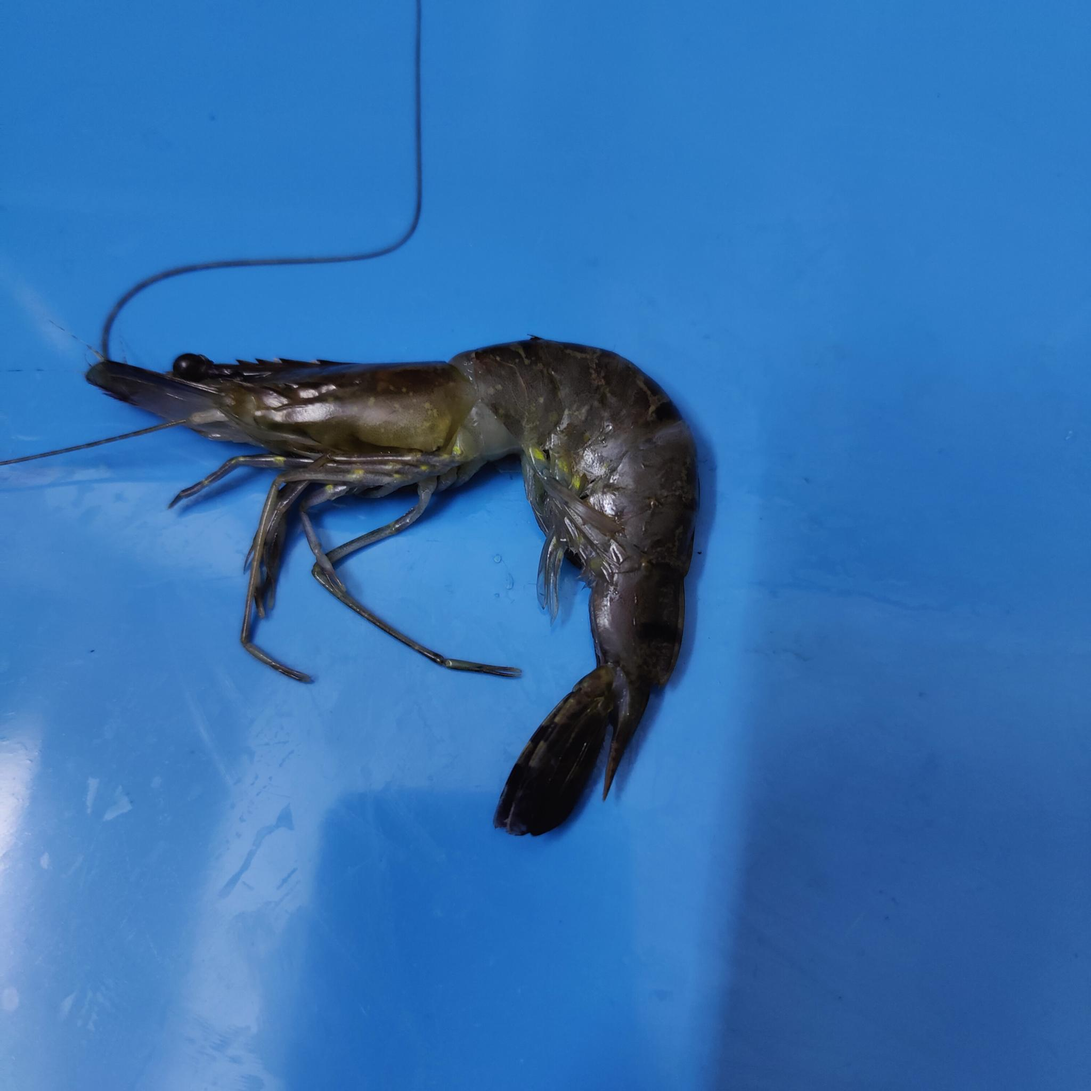whitespot: (344, 374, 442, 446), (508, 339, 574, 405), (480, 375, 549, 435), (559, 346, 610, 392), (574, 401, 594, 418)
